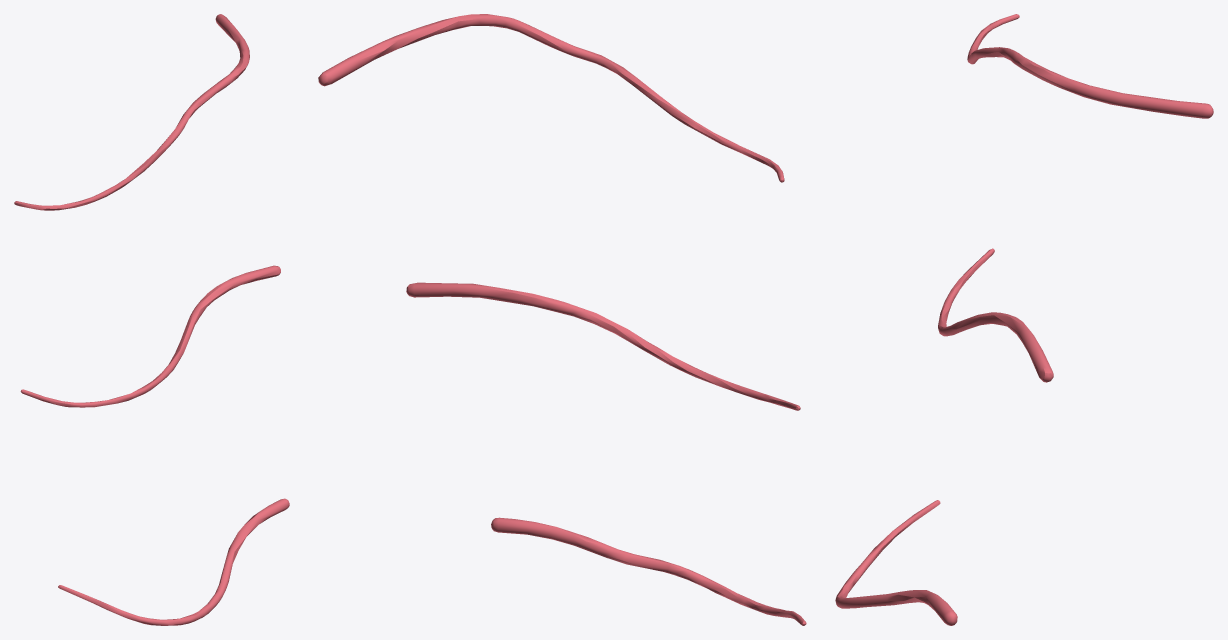
File: fma71537_fj3431.glb
The picture shows the model from 3 angles, left to right: view 1: azimuth 30°, elevation 25°; view 2: azimuth 150°, elevation 25°; view 3: azimuth 270°, elevation 25°; orthographic projection. The views are drawn at different scales.
Parts seen in each view (by area): view 1: FMA71537_FJ3431; view 2: FMA71537_FJ3431; view 3: FMA71537_FJ3431.
Part boxes in pixels (x1,y1,x2,y2): FMA71537_FJ3431: (14, 14, 289, 625); FMA71537_FJ3431: (318, 14, 806, 625); FMA71537_FJ3431: (835, 14, 1213, 625).
Bounding box in the file's own units: 0.036 × 0.0567 × 0.0315.
